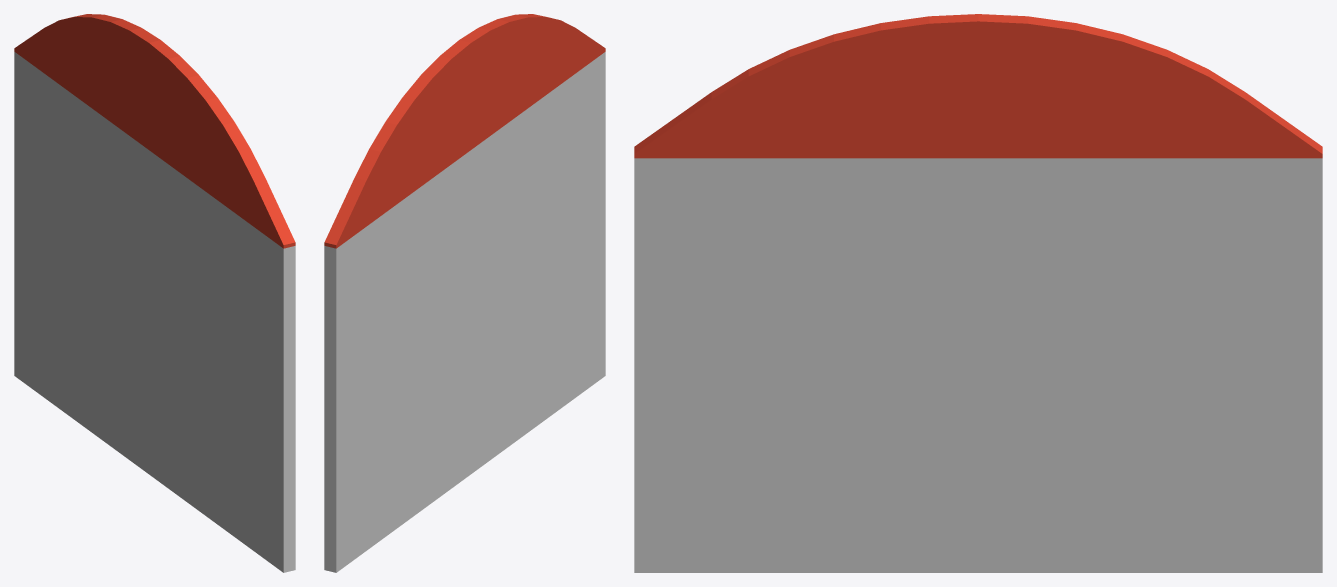
File: back_of_stand.fbx
3 renders of one model, left to right at view 1: azimuth 30°, elevation 25°; view 2: azimuth 150°, elevation 25°; view 3: azimuth 270°, elevation 25°, orthographic. The views are drawn at different scales.
Parts seen in each view (by area): view 1: Cube.001; view 2: Cube.001; view 3: Cube.001.
Part boxes in pixels (left/top/right/bottom): Cube.001: left=14, top=14, right=295, bottom=572; Cube.001: left=324, top=14, right=605, bottom=572; Cube.001: left=634, top=14, right=1322, bottom=572.
Size of the model in its own units: 29.42 by 1019 by 1152.
